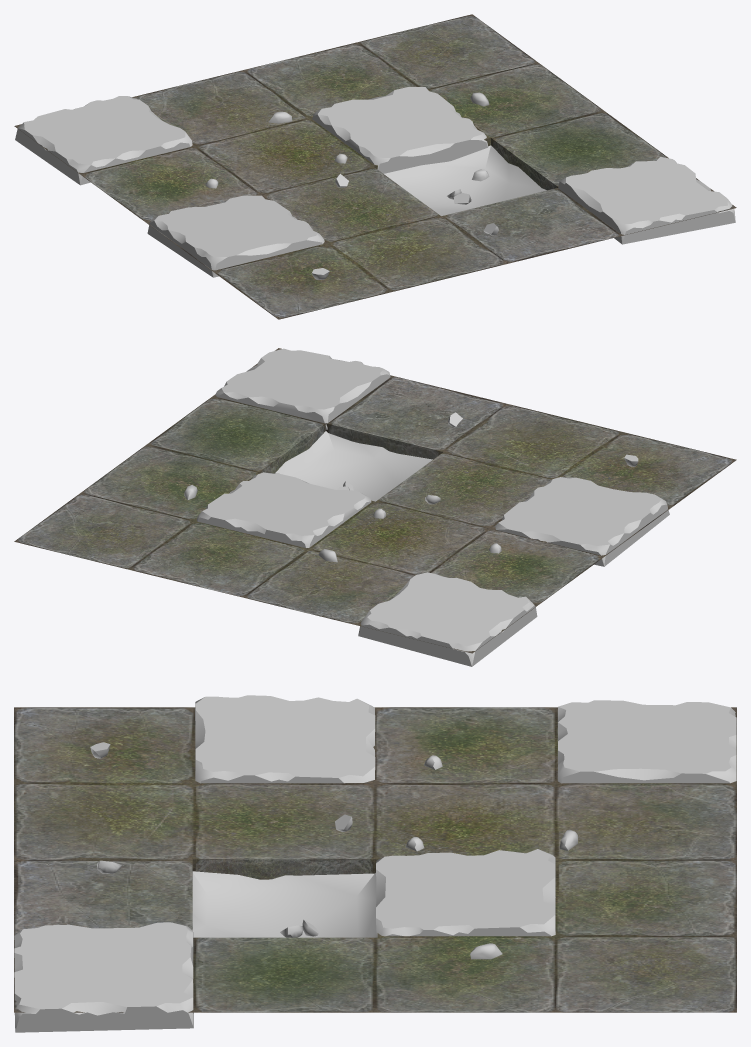
The model's file is Floor_Lvl3_3.fbx.
3 renders of one model, top to bottom at view 1: azimuth 30°, elevation 25°; view 2: azimuth 150°, elevation 25°; view 3: azimuth 270°, elevation 25°, orthographic. The views are drawn at different scales.
Visible parts, largest first — view 1: StoneFloor_Details.004; view 2: StoneFloor_Details.004; view 3: StoneFloor_Details.004.
Boxes of the visible parts, x1=… form: StoneFloor_Details.004: x1=14, y1=14, x2=736, y2=319; StoneFloor_Details.004: x1=14, y1=348, x2=736, y2=666; StoneFloor_Details.004: x1=14, y1=695, x2=736, y2=1032.
Bounding box in the file's own units: 382 × 31.87 × 382.
